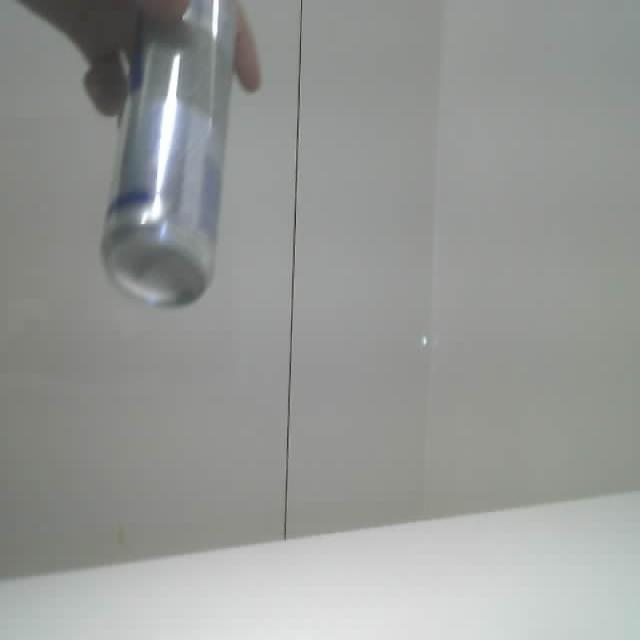redbull can: (102, 0, 236, 306)
